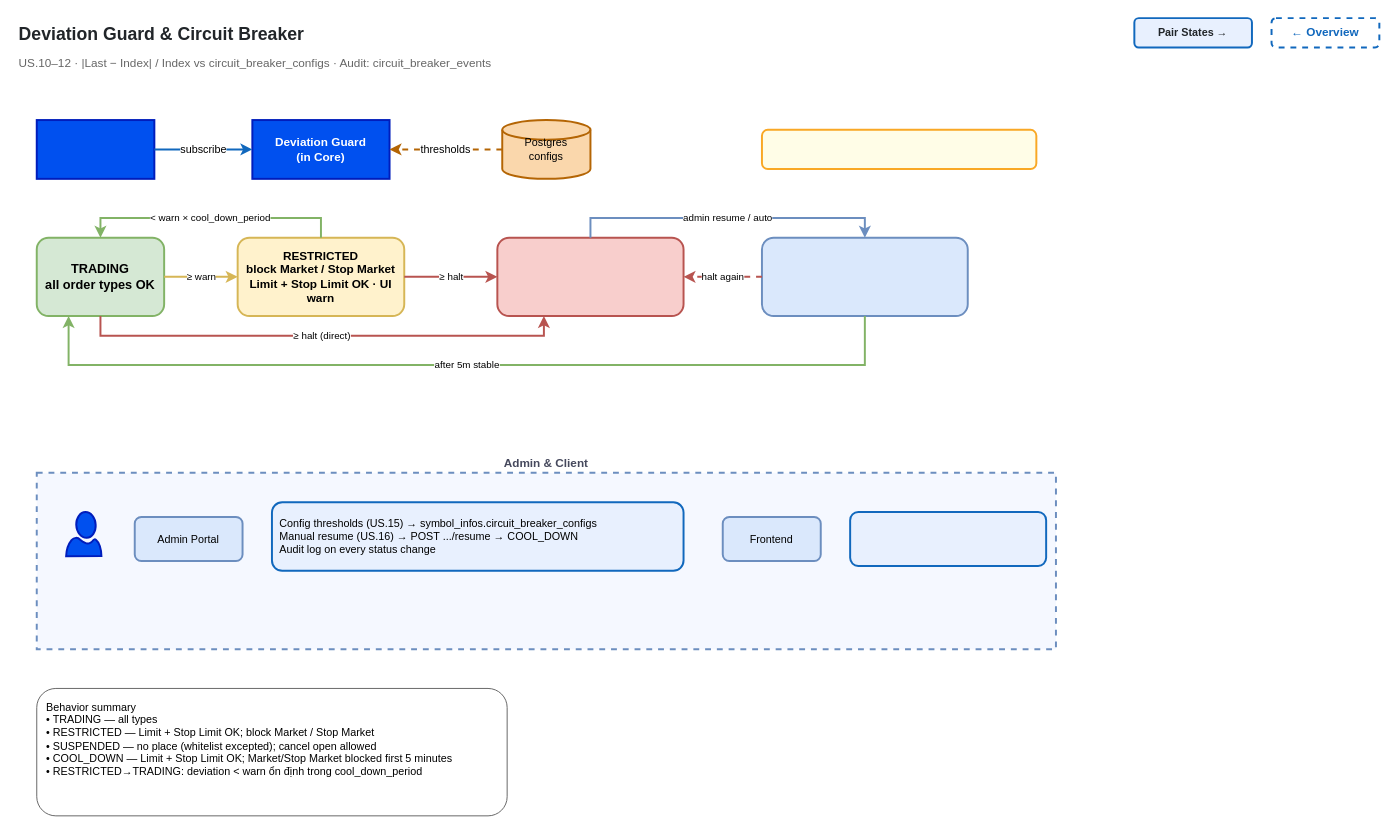
Some shapes in this 1397 by 833 pixel diagram are drawn without their labels. Here are the shapes that lost their labels. From the top down, the box of each, then its label:
(35, 119, 155, 179): Market Data last + index
(760, 128, 1037, 170): deviation = |Last − Index| / Index
(496, 236, 684, 317): SUSPENDED block all (except whitelist) cancel open OB · UI halt
(760, 236, 968, 317): COOL_DOWN Limit+StopLimit OK; Market/ StopMarket blocked 5m → TRADING
(65, 511, 102, 557): Admin
(849, 511, 1047, 566): WS symbol_status push warnings + disable place if needed
